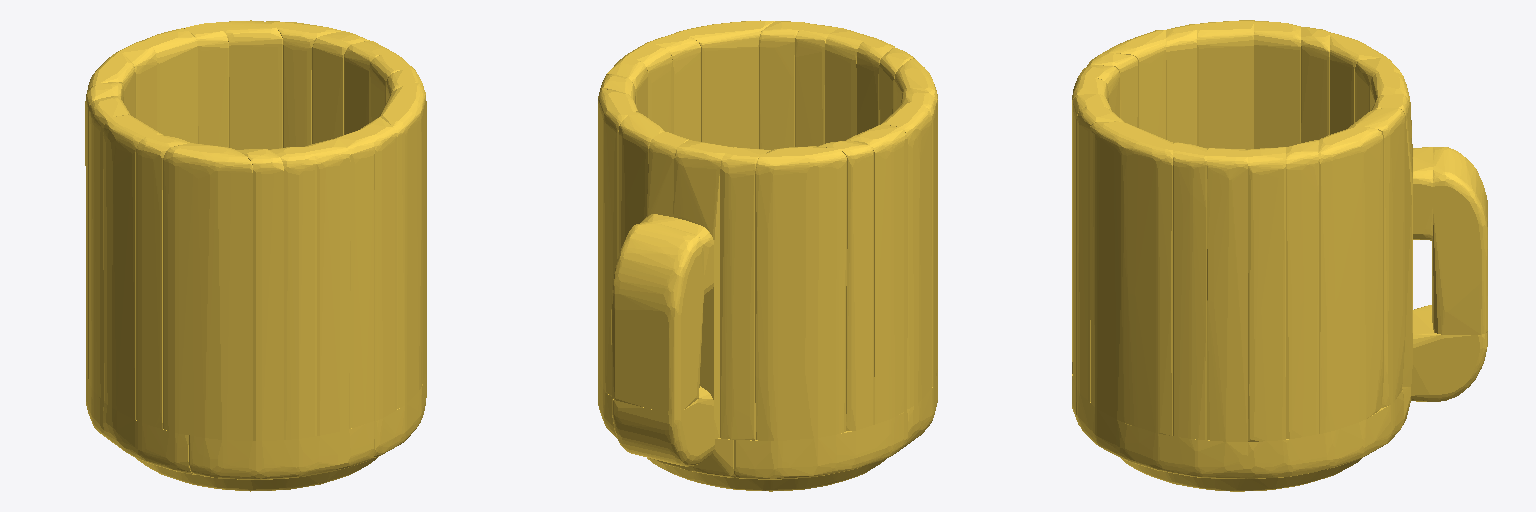
URDF robot description (367.urdf):
<?xml version="1.0" ?>
<robot name="367.urdf">
	<link name="baseLink">
		<inertial>
			<origin rpy="0 0 0" xyz="0 0 0"/>
				<mass value="0.1"/>
				<inertia ixx="6e-5" ixy="0" ixz="0" iyy="6e-5" iyz="0" izz="6e-5"/>
		</inertial>
		<visual>
			<origin rpy="0 0 0" xyz="0 0 0"/>
			<geometry>
				<mesh filename="30_decom_wt.obj" scale="0.84 0.84 1.15"/>
			</geometry>
			<material name="yellow">
				<color rgba="0.98 0.84 0.35 1"/>
			</material>
		</visual>
		<collision>
			<origin rpy="0 0 0" xyz="0 0 0"/>
			<geometry>
				<mesh filename="30_decom_wt.obj" scale="0.84 0.84 1.15"/>
			</geometry>
		</collision>
	</link>
</robot>

--- Render facts (derived) ---
The picture shows the robot from 3 angles, left to right: view 1: azimuth 30°, elevation 25°; view 2: azimuth 150°, elevation 25°; view 3: azimuth 270°, elevation 25°; orthographic projection.
Robot: 367.urdf — 1 links, 0 joints (none); root link baseLink; default pose: all joints at 0.
Links seen in each view (by area): view 1: baseLink; view 2: baseLink; view 3: baseLink.
Link boxes in pixels (x1,y1,x2,y2): baseLink: (85,20,426,491); baseLink: (598,20,937,491); baseLink: (1072,20,1487,491).
Bounding box of the posed robot: 0.0869 × 0.1068 × 0.0985 m (x, y, z).
Meshes: 1 distinct files referenced, 1 mesh visuals loaded (1 OBJ).